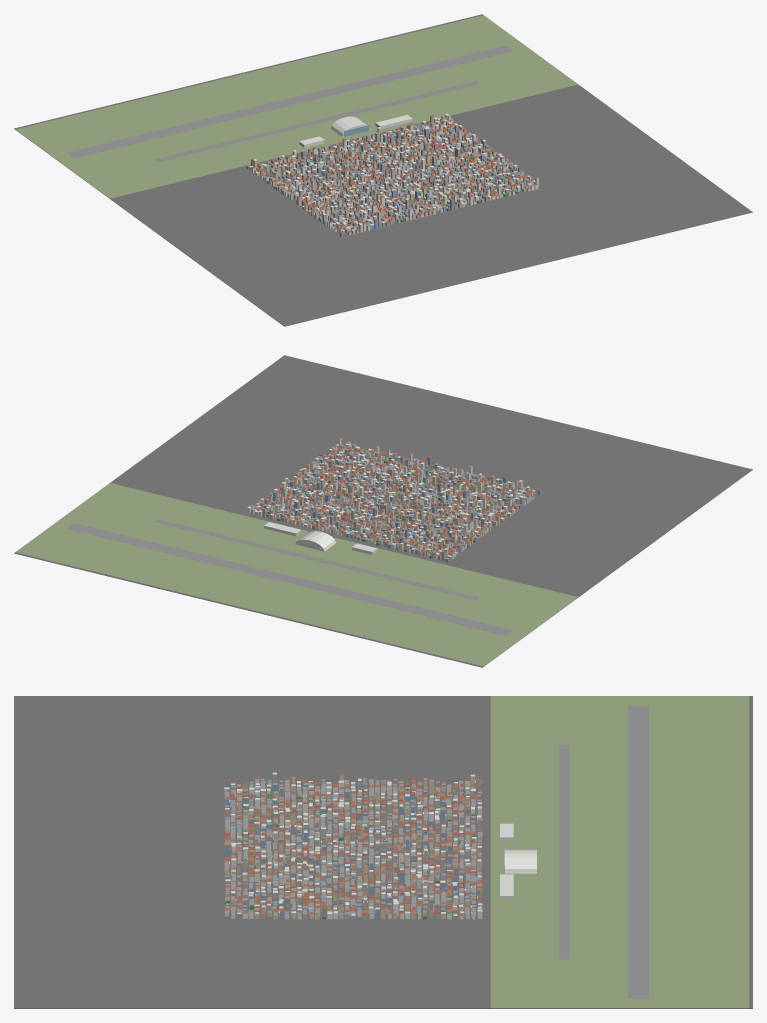
The model's file is floor7.glb.
3 views of the same model, one above another, from view 1: azimuth 30°, elevation 25°; view 2: azimuth 150°, elevation 25°; view 3: azimuth 270°, elevation 25° (orthographic). The views are drawn at different scales.
Visible parts, largest first — view 1: City.c_ground, City.c_field, City.c_white, City.c_runway, City.c_red, City.c_roof, City.c_cream, City.c_blue, City.c_grey, City.c_green; view 2: City.c_ground, City.c_field, City.c_white, City.c_runway, City.c_red, City.c_roof, City.c_cream, City.c_grey, City.c_blue, City.hangar, City.c_green; view 3: City.c_ground, City.c_field, City.c_white, City.c_runway, City.c_red, City.c_roof, City.c_cream, City.c_grey, City.c_blue, City.hangar, City.c_green.
Part boxes in pixels (box(x1,y1,x2,y2)): City.c_ground: box(14, 14, 752, 326); City.c_field: box(15, 15, 577, 198); City.c_white: box(249, 113, 538, 232); City.c_runway: box(67, 45, 513, 162); City.c_red: box(251, 115, 538, 233); City.c_roof: box(247, 115, 534, 230); City.c_cream: box(253, 117, 533, 234); City.c_blue: box(246, 123, 535, 236); City.c_grey: box(249, 116, 527, 234); City.c_green: box(261, 123, 524, 222); City.c_ground: box(14, 355, 752, 667); City.c_field: box(15, 483, 577, 666); City.c_white: box(247, 438, 535, 559); City.c_runway: box(67, 519, 512, 635); City.c_red: box(254, 437, 541, 556); City.c_roof: box(249, 441, 532, 559); City.c_cream: box(250, 444, 533, 557); City.c_grey: box(262, 449, 535, 560); City.c_blue: box(256, 445, 541, 562); City.hangar: box(295, 531, 335, 551); City.c_green: box(264, 448, 507, 558); City.c_ground: box(14, 696, 752, 1008); City.c_field: box(490, 696, 749, 1008); City.c_white: box(224, 772, 513, 919); City.c_runway: box(559, 706, 648, 998); City.c_red: box(224, 773, 482, 915); City.c_roof: box(224, 776, 482, 915); City.c_cream: box(225, 775, 482, 919); City.c_grey: box(224, 774, 482, 919); City.c_blue: box(224, 782, 504, 919); City.hangar: box(504, 849, 536, 873); City.c_green: box(225, 782, 482, 919).
Size of the model in its own units: 1600 by 59.38 by 1600.
Materials: 81 (12 with a texture image).
